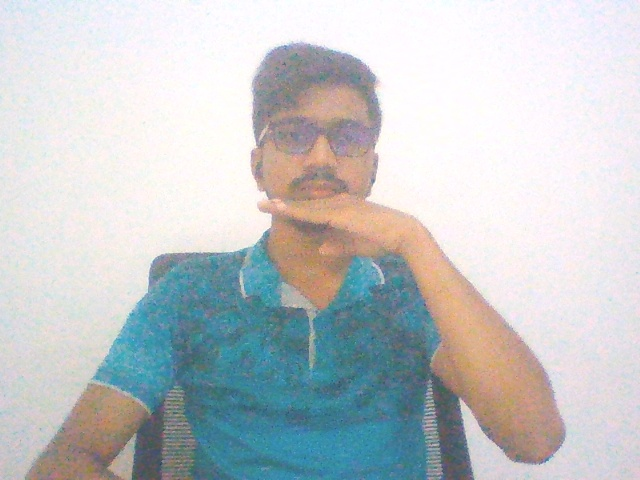elephant: (236, 176, 473, 289)
